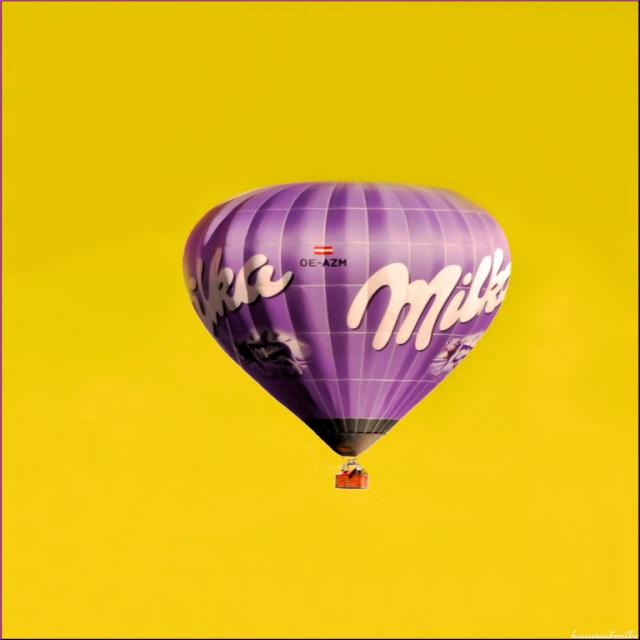milka: (344, 249, 513, 380), (185, 250, 313, 381)
